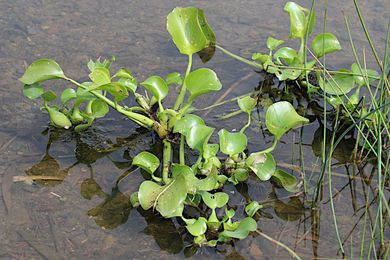water_hyacinth: (21, 1, 380, 251)
